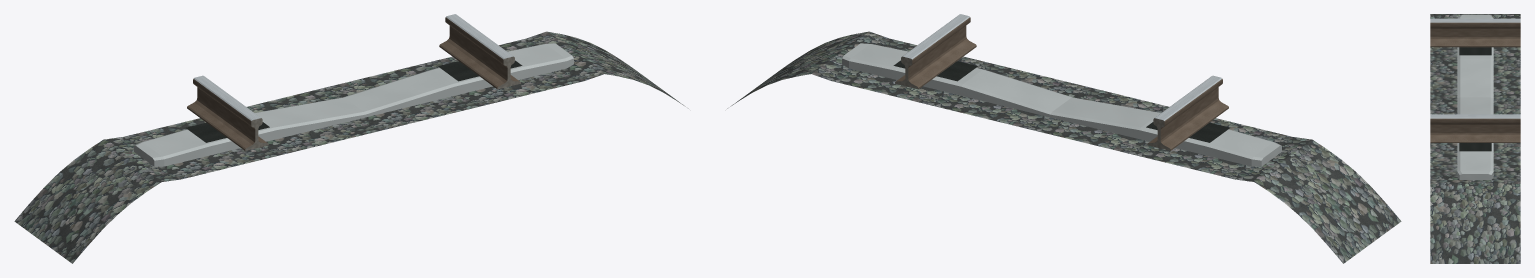
The model's file is rail_old_low.obj.
3 views of the same model, side by side, from view 1: azimuth 30°, elevation 25°; view 2: azimuth 150°, elevation 25°; view 3: azimuth 270°, elevation 25° (orthographic). The views are drawn at different scales.
Visible parts, largest first — view 1: ballast, sleeper, rail_right, rail_left, fastener_left, fastener_right; view 2: ballast, sleeper, rail_right, rail_left, fastener_left, fastener_right; view 3: ballast, sleeper, rail_left, rail_right, fastener_left, fastener_right.
Boxes of the visible parts, x1,y1,x2,y2 form: ballast: (14, 31, 688, 263); sleeper: (134, 43, 573, 166); rail_right: (439, 14, 519, 88); rail_left: (187, 75, 266, 150); fastener_left: (185, 122, 269, 142); fastener_right: (438, 60, 522, 81); ballast: (727, 31, 1401, 263); sleeper: (842, 43, 1281, 166); rail_right: (896, 14, 976, 88); rail_left: (1149, 75, 1228, 150); fastener_left: (1146, 122, 1230, 142); fastener_right: (893, 60, 977, 81); ballast: (1430, 14, 1520, 263); sleeper: (1457, 14, 1493, 179); rail_left: (1430, 18, 1520, 47); rail_right: (1430, 114, 1520, 142); fastener_left: (1459, 47, 1491, 55); fastener_right: (1459, 143, 1491, 151).
Bounding box in the file's own units: 3.7 × 0.5683 × 0.6.
